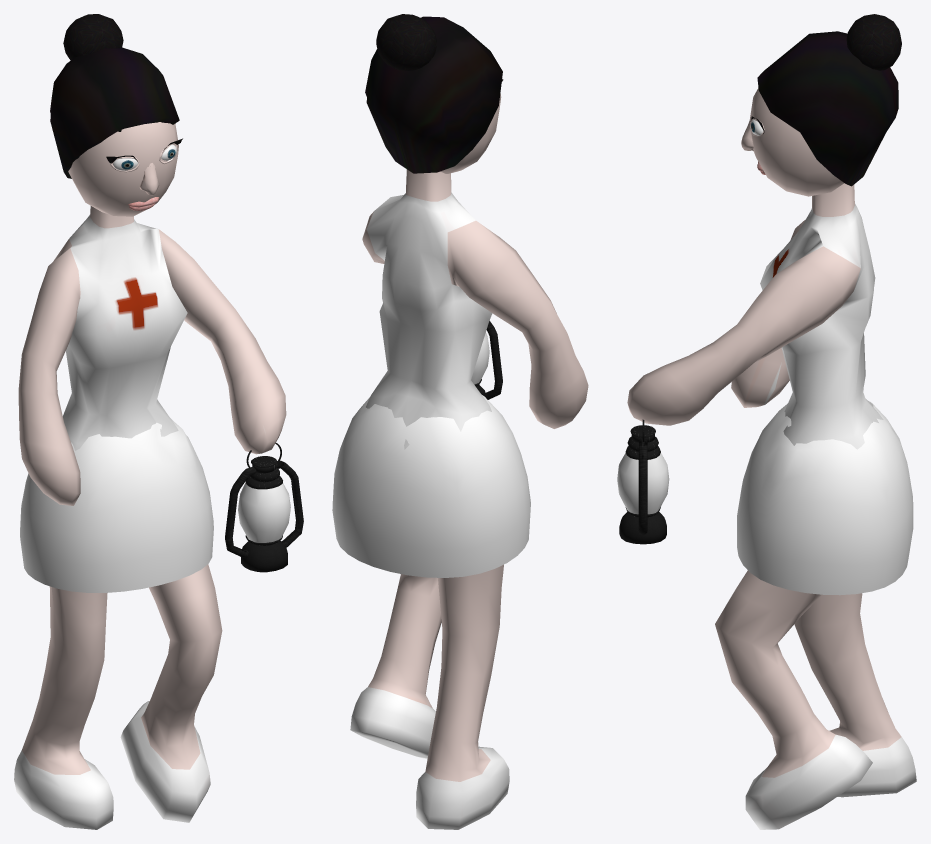
The model's file is walking_000021.obj.
3 renders of one model, left to right at view 1: azimuth 30°, elevation 25°; view 2: azimuth 150°, elevation 25°; view 3: azimuth 270°, elevation 25°, orthographic. The views are drawn at different scales.
Parts seen in each view (by area): view 1: Cube_Cube.001, Cube.001_Cube, Cube.004; view 2: Cube_Cube.001, Cube.001_Cube, Cube.004; view 3: Cube_Cube.001, Cube.001_Cube, Cube.004.
Part boxes in pixels (bbox=[...]): Cube_Cube.001: bbox=[14, 14, 286, 829]; Cube.001_Cube: bbox=[20, 418, 213, 592]; Cube.004: bbox=[225, 443, 303, 572]; Cube_Cube.001: bbox=[350, 14, 588, 829]; Cube.001_Cube: bbox=[332, 395, 530, 577]; Cube.004: bbox=[471, 320, 502, 399]; Cube_Cube.001: bbox=[627, 14, 916, 829]; Cube.001_Cube: bbox=[737, 401, 913, 595]; Cube.004: bbox=[617, 419, 669, 544].
Size of the model in its own units: 0.607 by 2.08 by 0.7134.
